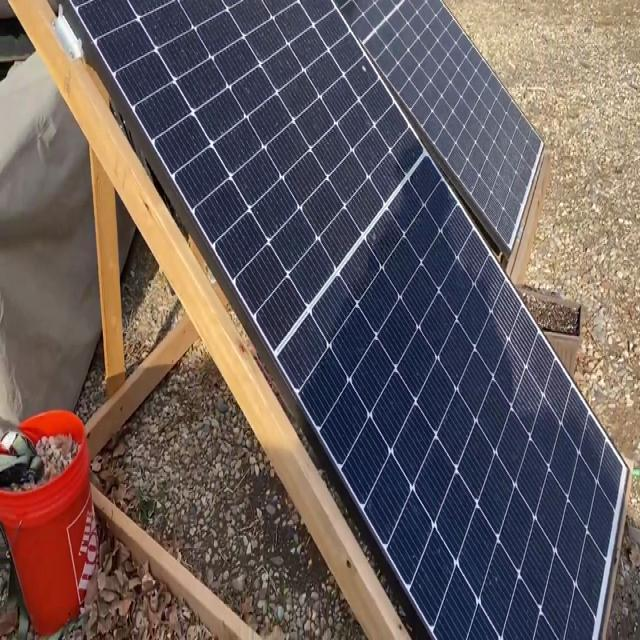Normal Solar Panel: (66, 0, 626, 640), (341, 0, 544, 253)
